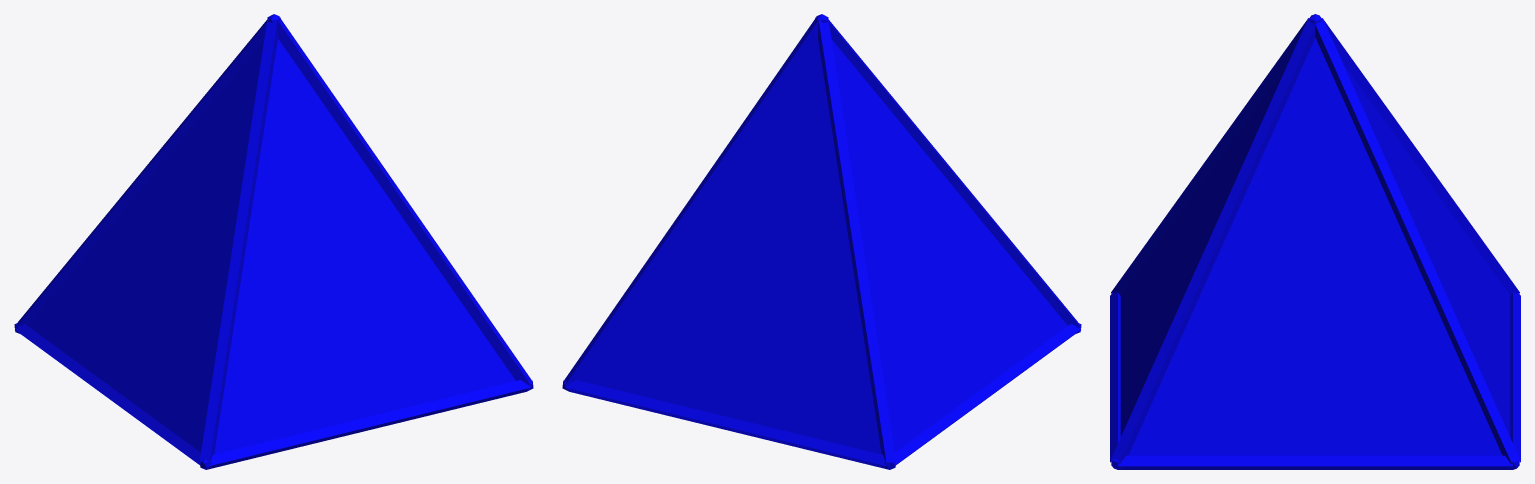
Rendered from Caras_Piramide.glb.
The picture shows the model from 3 angles, left to right: view 1: azimuth 30°, elevation 25°; view 2: azimuth 150°, elevation 25°; view 3: azimuth 270°, elevation 25°; orthographic projection. The views are drawn at different scales.
Visible parts, largest first — view 1: Pyramid002, Pyramid001; view 2: Pyramid002, Pyramid001; view 3: Pyramid002, Pyramid001.
Part boxes in pixels (box(x1,y1,x2,y2)): Pyramid002: box(28, 39, 515, 454); Pyramid001: box(14, 14, 533, 469); Pyramid002: box(580, 39, 1067, 454); Pyramid001: box(562, 14, 1081, 469); Pyramid002: box(1120, 38, 1510, 455); Pyramid001: box(1110, 14, 1520, 469).
Size of the model in its own units: 0.6604 by 0.6604 by 0.6604.
